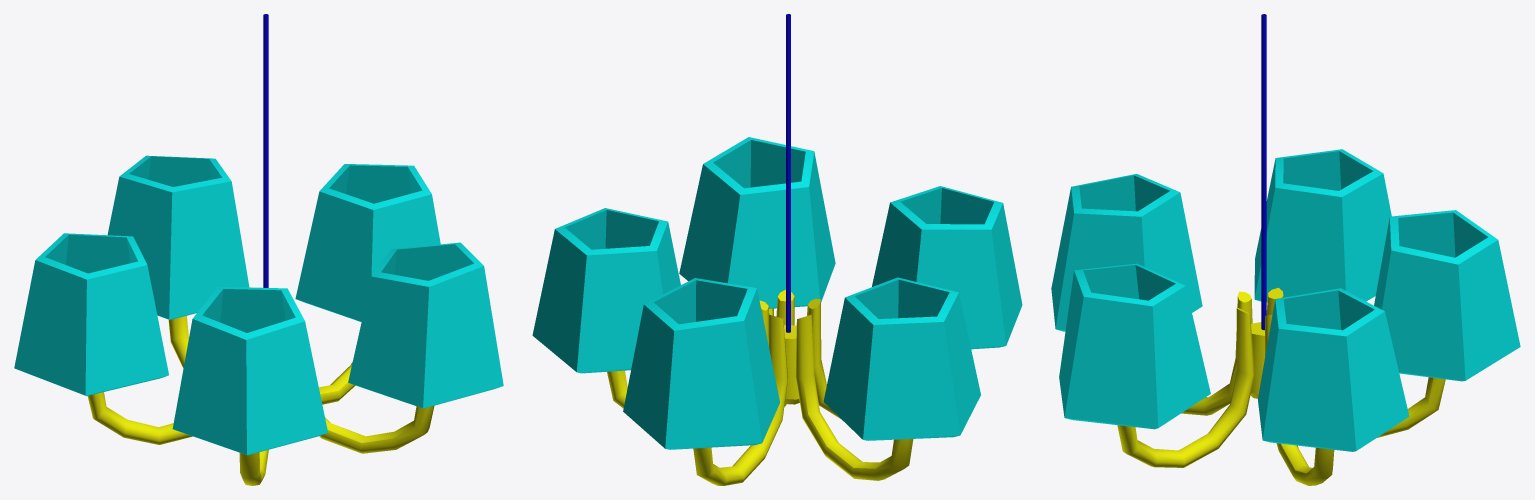
File: LivingRoom_Сhandelier.fbx
The picture shows the model from 3 angles, left to right: view 1: azimuth 30°, elevation 25°; view 2: azimuth 150°, elevation 25°; view 3: azimuth 270°, elevation 25°; orthographic projection.
Parts seen in each view (by area): view 1: LivingRoom_Сhandelier; view 2: LivingRoom_Сhandelier; view 3: LivingRoom_Сhandelier.
Part boxes in pixels (x1=…): LivingRoom_Сhandelier: x1=14, y1=14, x2=503, y2=485; LivingRoom_Сhandelier: x1=532, y1=14, x2=1022, y2=485; LivingRoom_Сhandelier: x1=1051, y1=14, x2=1520, y2=485.
Bounding box in the file's own units: 136 × 131 × 132.
